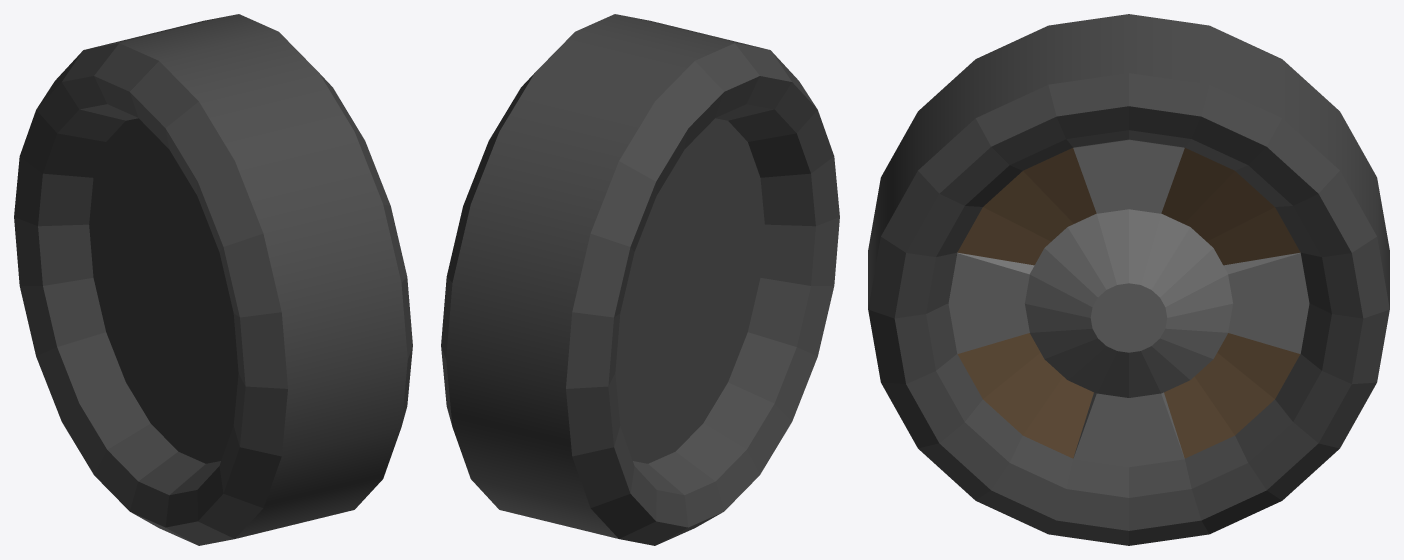
Rendered from PickUp_Tire.fbx.
The picture shows the model from 3 angles, left to right: view 1: azimuth 30°, elevation 25°; view 2: azimuth 150°, elevation 25°; view 3: azimuth 270°, elevation 25°; orthographic projection.
Visible parts, largest first — view 1: PickUp_Tire; view 2: PickUp_Tire; view 3: PickUp_Tire.
Part boxes in pixels (x1,y1,x2,y2): PickUp_Tire: (14,14,412,545); PickUp_Tire: (441,14,839,545); PickUp_Tire: (868,14,1389,545).
Bounding box in the file's own units: 19.74 × 52.67 × 52.67.
